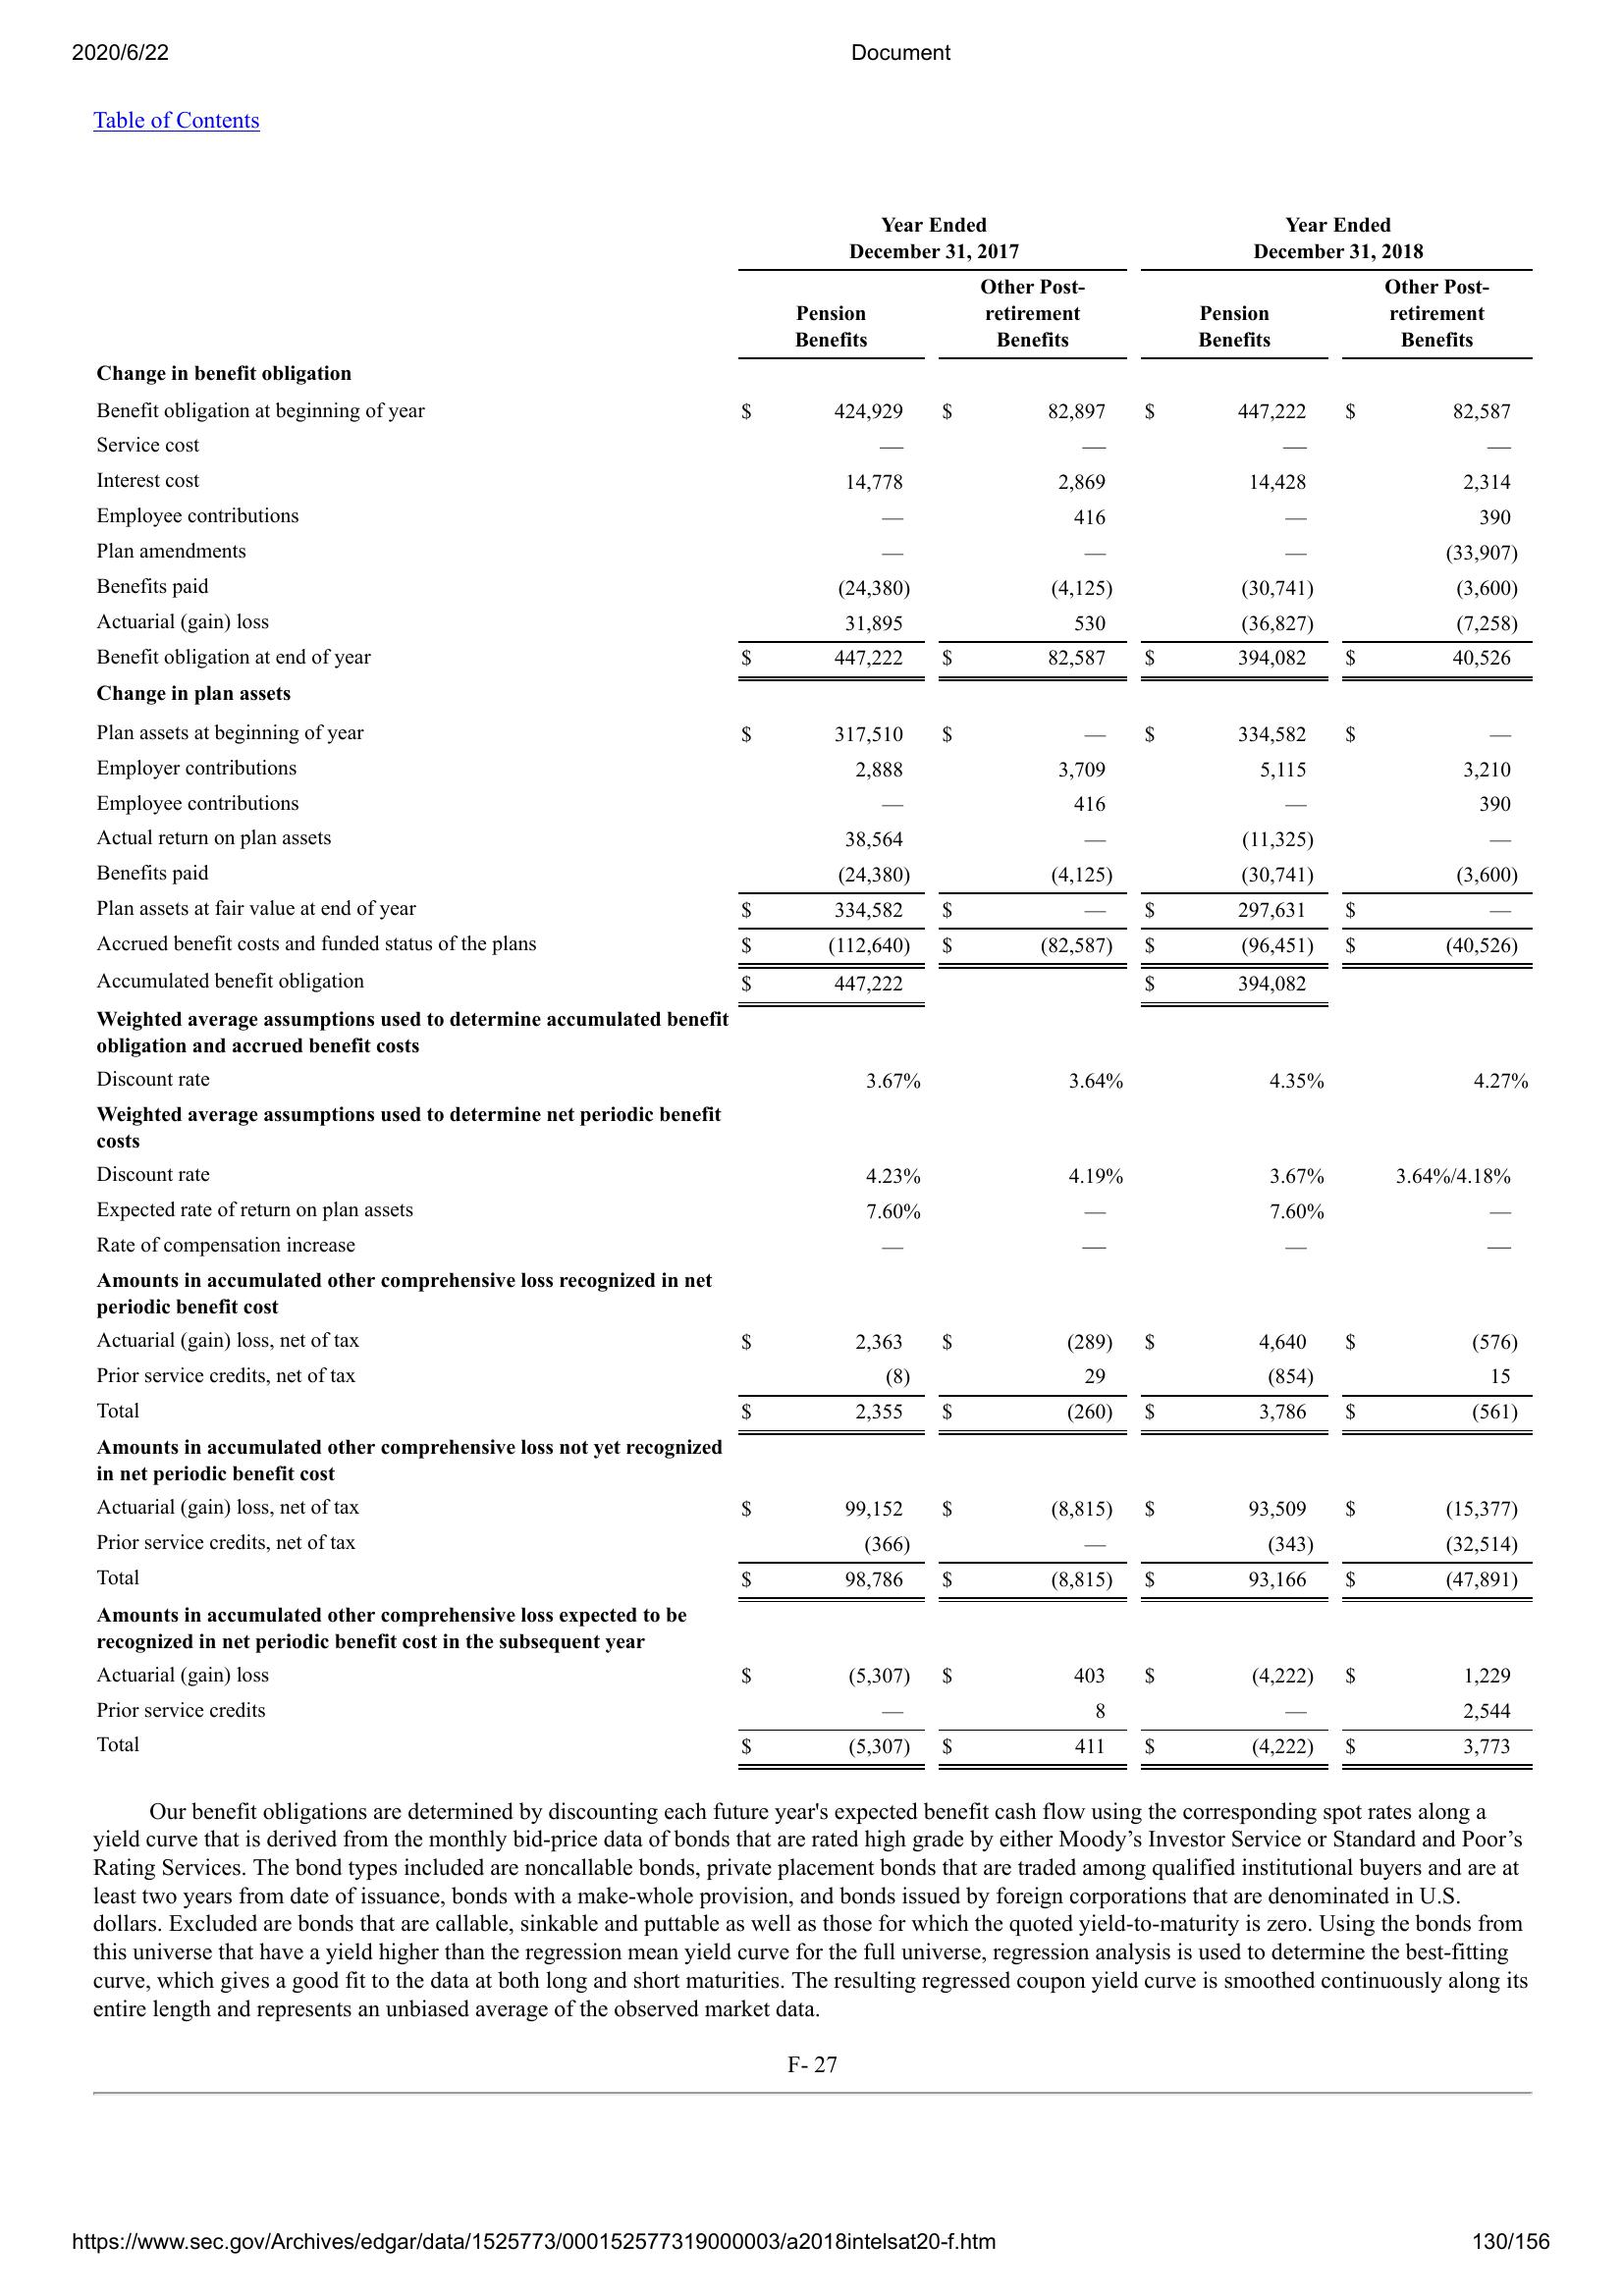table: (90, 209, 1539, 1782)
